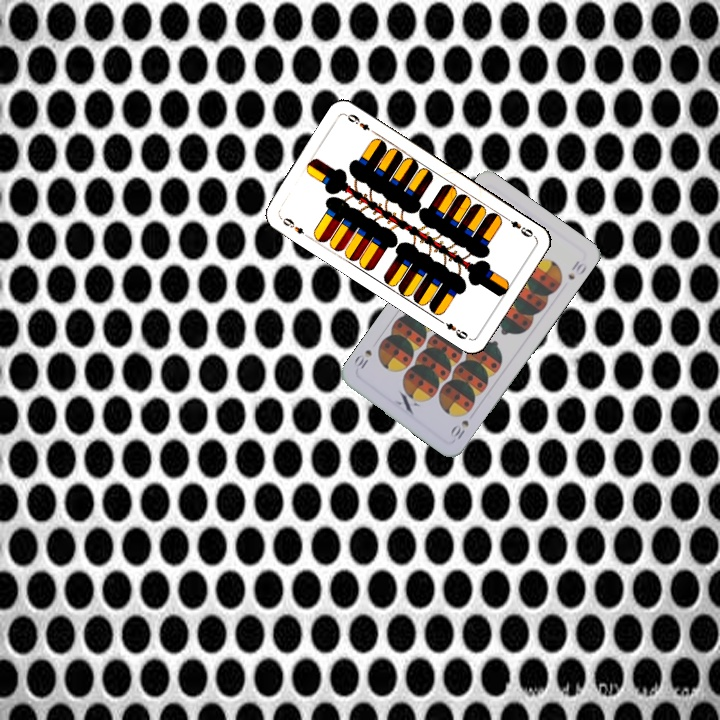E9: (276, 213, 312, 241), (501, 213, 537, 240)
S10: (448, 416, 472, 442)
